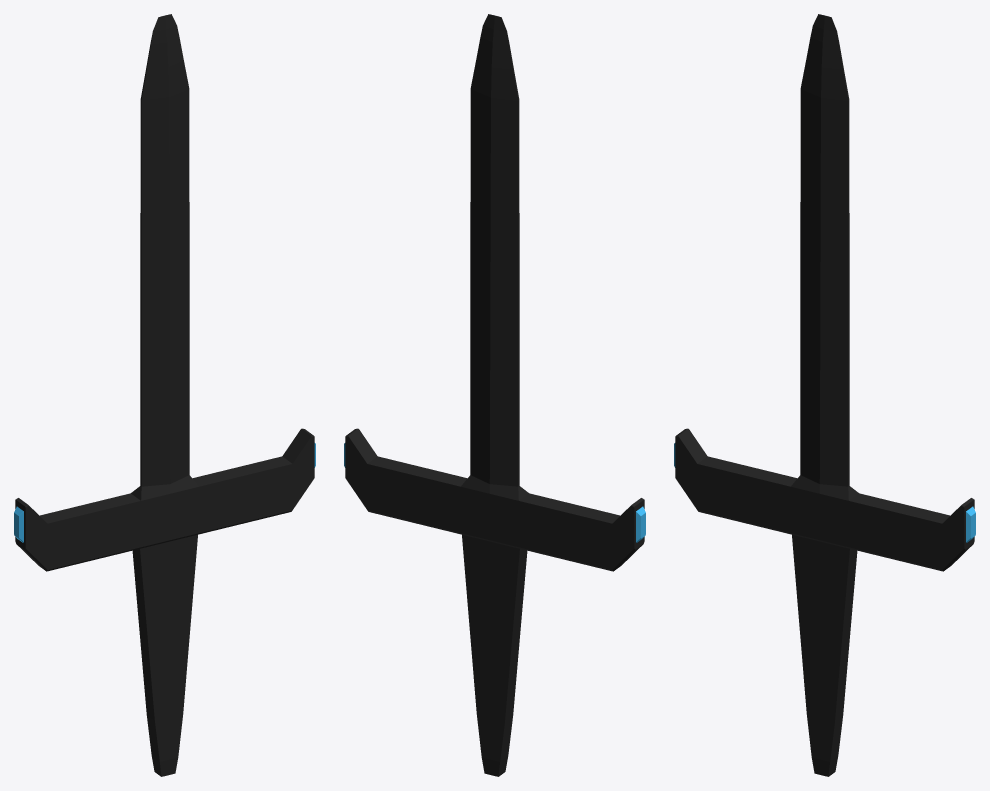
File: BasicSword.fbx
3 renders of one model, left to right at view 1: azimuth 30°, elevation 25°; view 2: azimuth 150°, elevation 25°; view 3: azimuth 330°, elevation 25°, orthographic.
Visible parts, largest first — view 1: Cube; view 2: Cube; view 3: Cube.
Part boxes in pixels (x1,y1,x2,y2): Cube: [14, 14, 315, 776]; Cube: [344, 14, 645, 776]; Cube: [674, 14, 975, 776].
Size of the model in its own units: 2.49 by 6.07 by 0.1506.
Materials: 1 (1 with a texture image).
